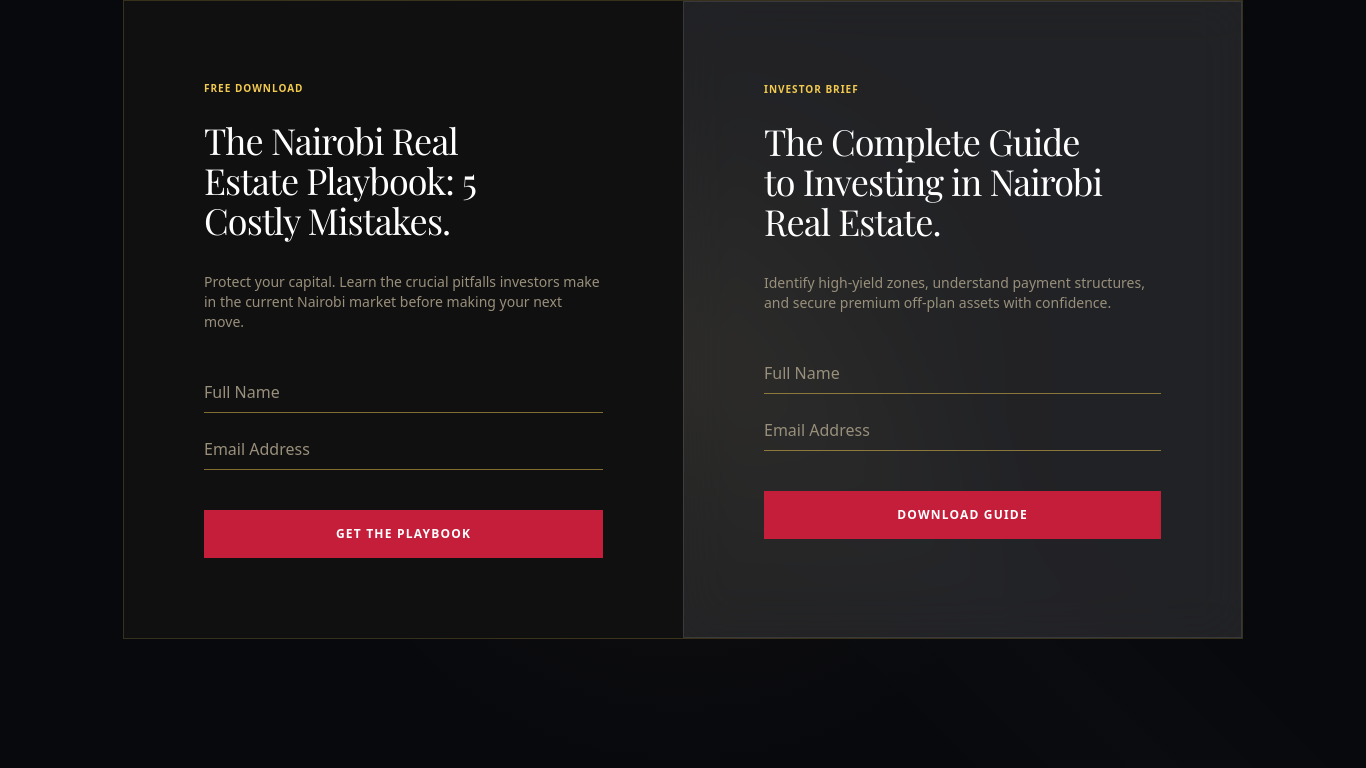
Test: LeadMagnetSplit › shows success message after local playbook submission
The width and height of the screenshot is (1366, 768).
Type "John Doe" into the field with placeholder "Full Name" below "Free Download" at (404, 396), box [204,380,603,413]
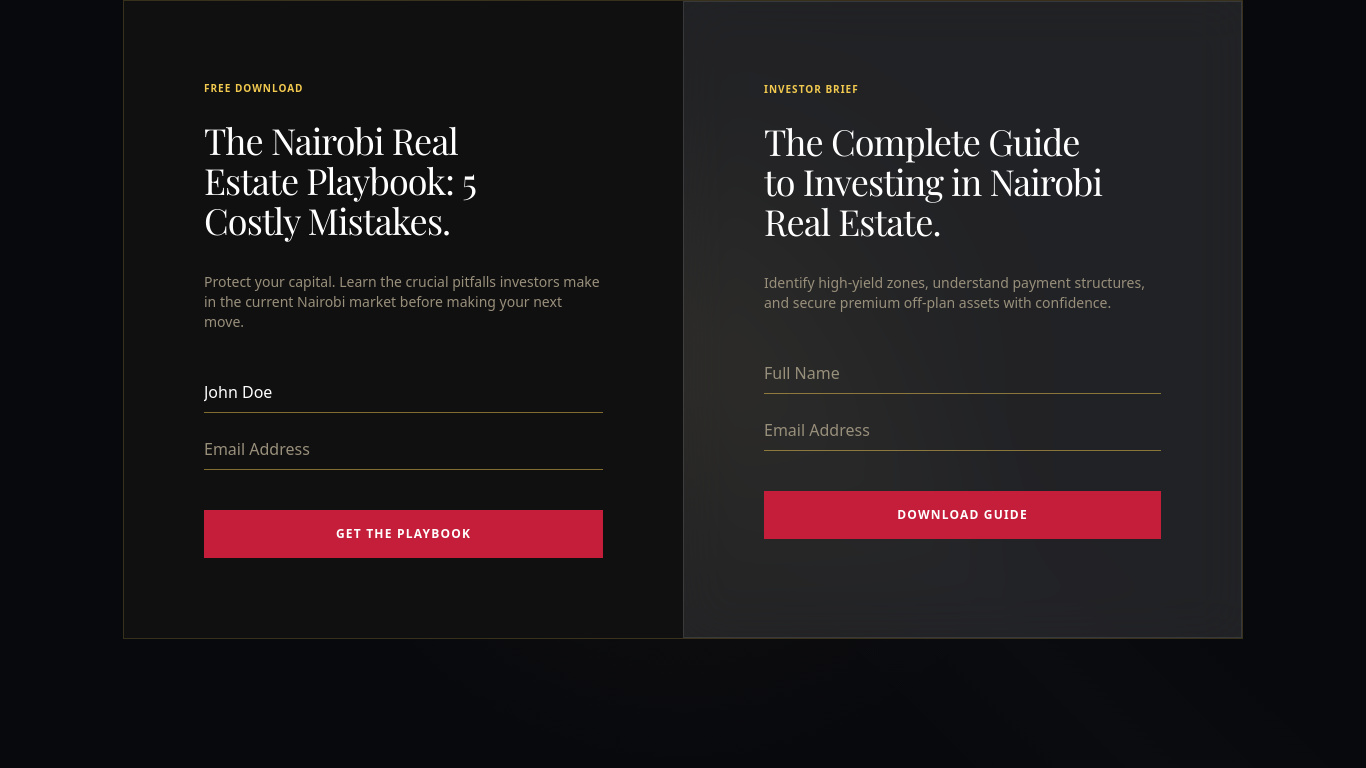
Type "john@example.com" into the 2nd field with placeholder "Email Address" at (404, 454), box [204,437,603,470]
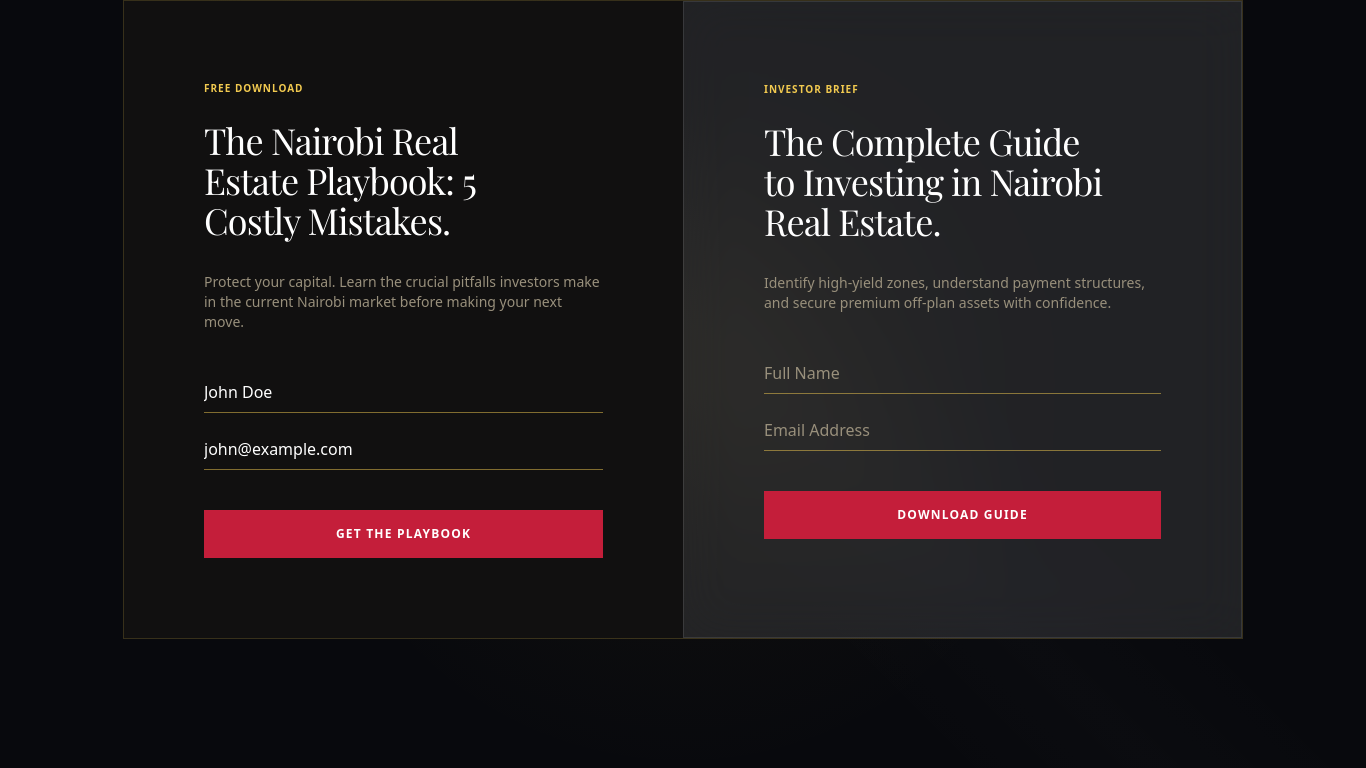
Click the button "Get The Playbook" at (404, 534), box [204,510,603,558]
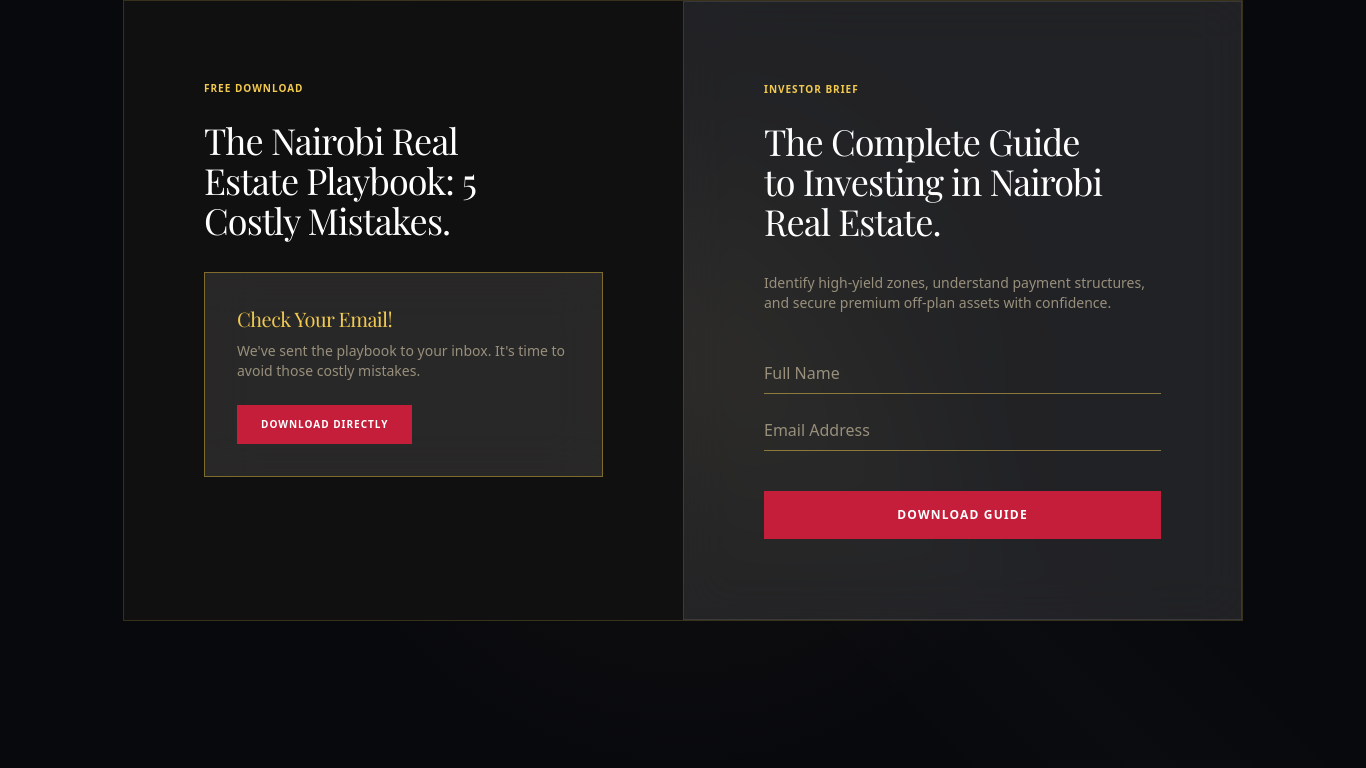
Check: the heading "Check Your Email!" is shown, box [237,305,392,332]
